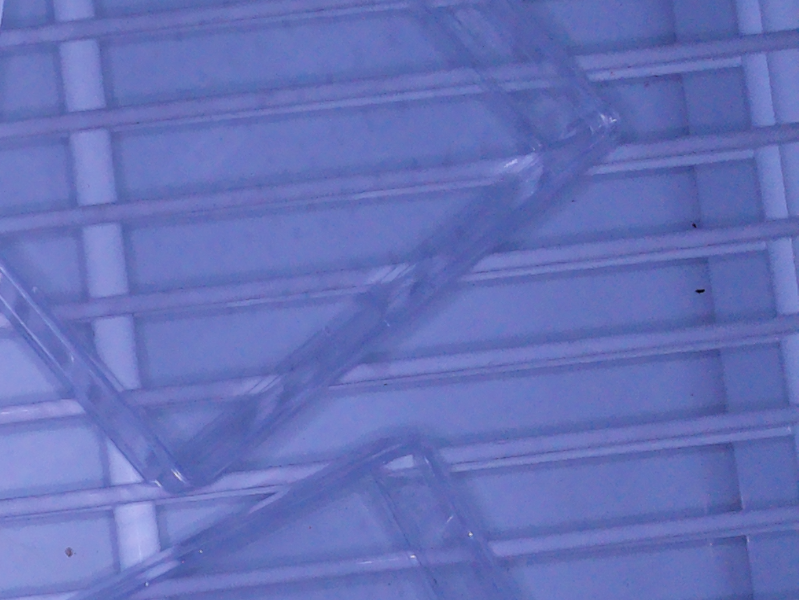plate: (20, 1, 627, 491), (53, 429, 513, 600)
